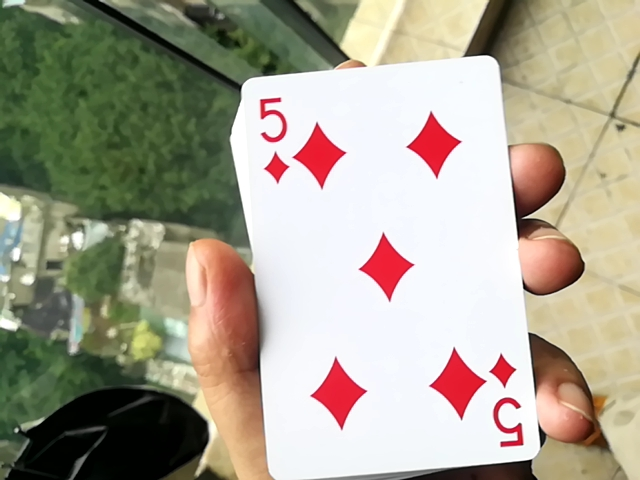fk 5: (210, 39, 543, 480)
